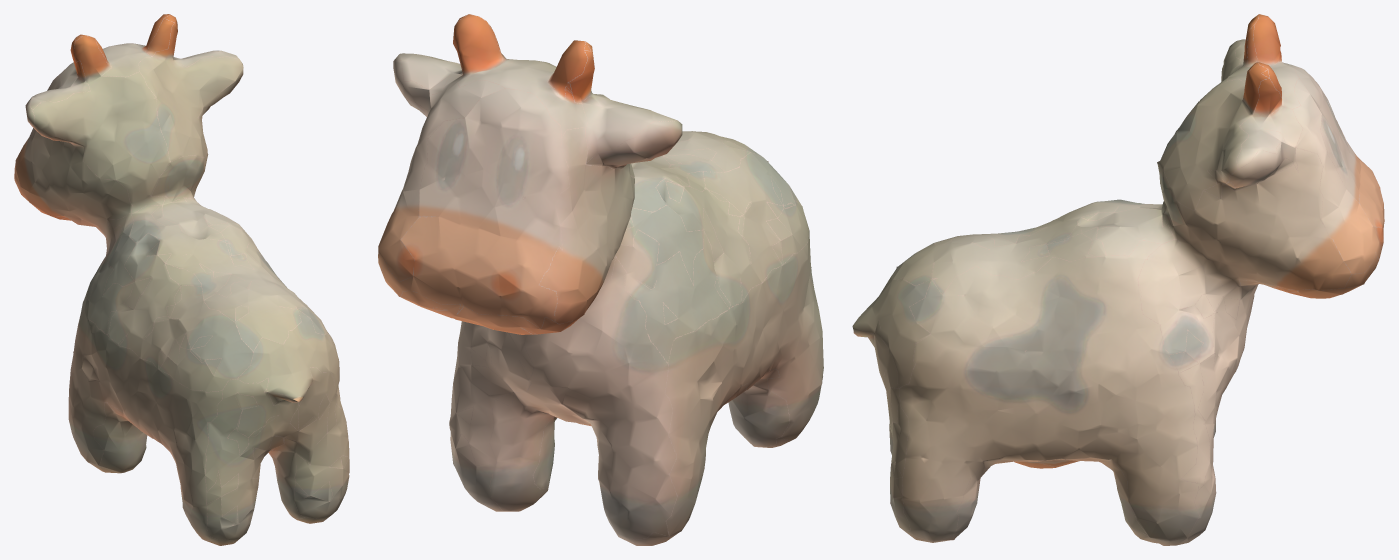
3 views of the same model, side by side, from view 1: azimuth 30°, elevation 25°; view 2: azimuth 150°, elevation 25°; view 3: azimuth 270°, elevation 25° (orthographic). The views are drawn at different scales.
Visible parts, largest first — view 1: pMesh1; view 2: pMesh1; view 3: pMesh1.
Boxes of the visible parts, bbox=[...] form: pMesh1: bbox=[14, 14, 349, 545]; pMesh1: bbox=[378, 14, 823, 545]; pMesh1: bbox=[852, 14, 1384, 545].
Size of the model in its own units: 0.9429 by 1.69 by 1.72.
1 material, 1 textured.
